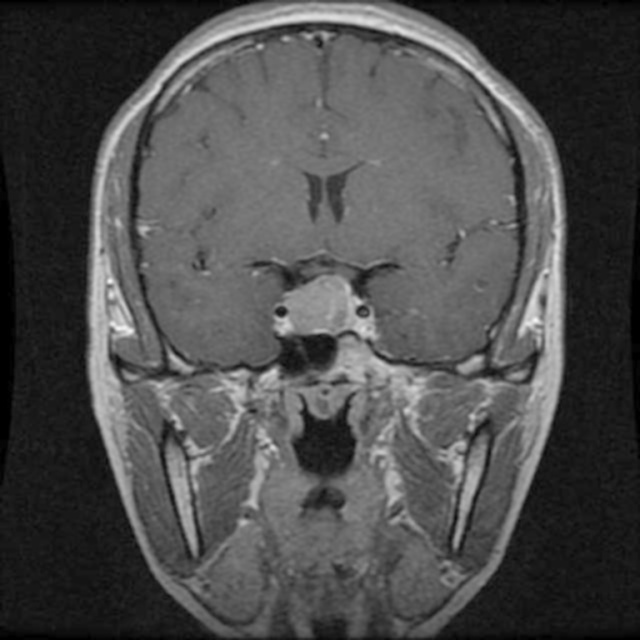no tumor: (278, 272, 380, 338)
